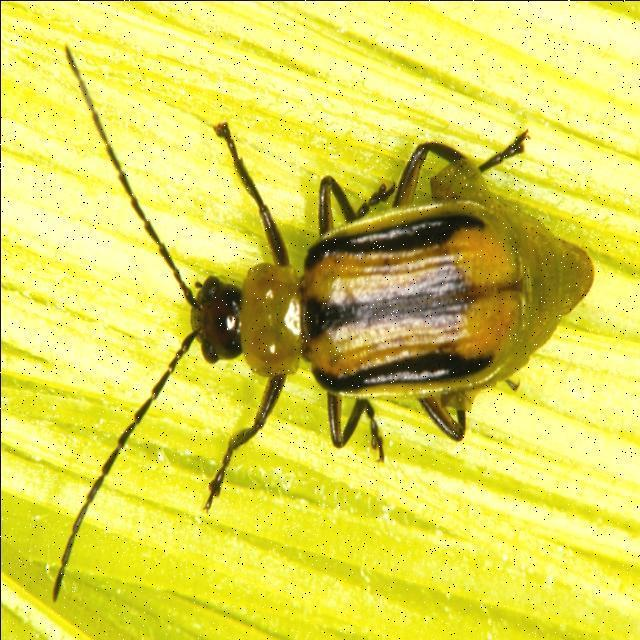trips: (36, 31, 598, 609)
